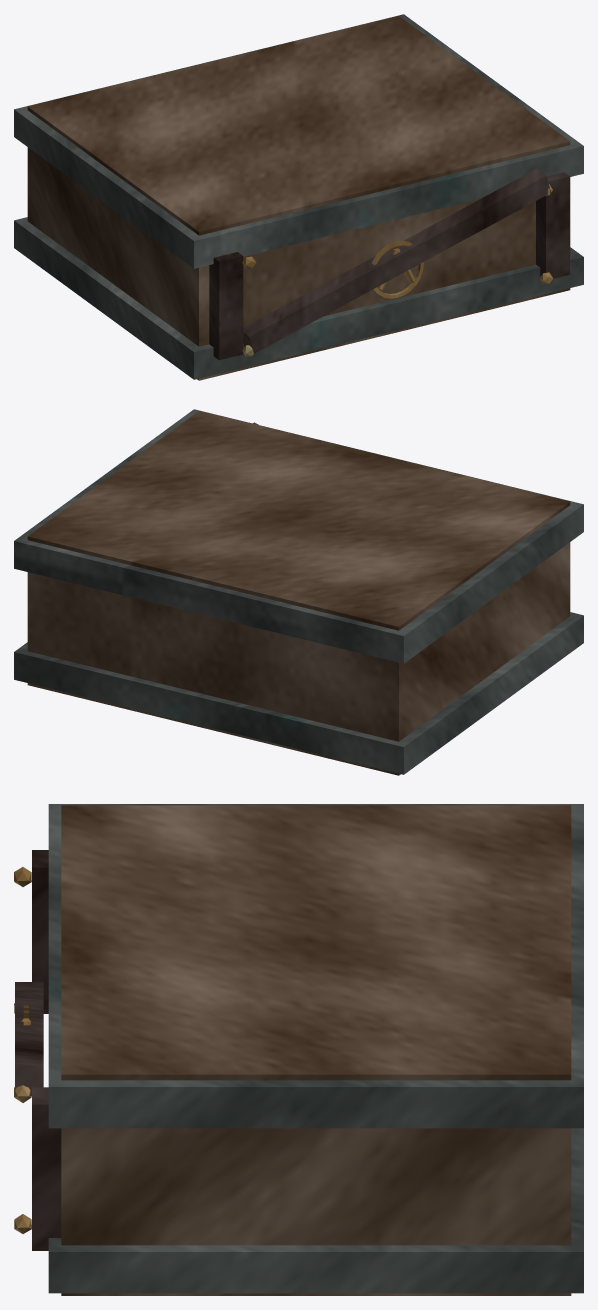
File: 0729_supply_crate_04.glb
3 renders of one model, top to bottom at view 1: azimuth 30°, elevation 25°; view 2: azimuth 150°, elevation 25°; view 3: azimuth 270°, elevation 25°, orthographic. The views are drawn at different scales.
Visible parts, largest first — view 1: wood, iron, wood_dark, brass; view 2: wood, iron; view 3: wood, iron, wood_dark, brass.
Boxes of the visible parts, x1,y1,x2,y2 form: wood: (27, 16, 570, 380); iron: (14, 14, 583, 379); wood_dark: (209, 168, 569, 360); brass: (242, 184, 552, 356); wood: (27, 411, 570, 775); iron: (14, 409, 583, 774); wood: (61, 805, 571, 1295); iron: (48, 804, 583, 1293); wood_dark: (15, 850, 61, 1250); brass: (14, 867, 31, 1233).
Bounding box in the file's own units: 1.62 × 0.5912 × 1.38.
Materials: 4 (4 with a texture image).
